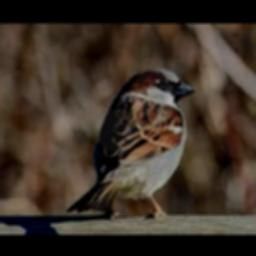Sparrow: (67, 67, 196, 218)
